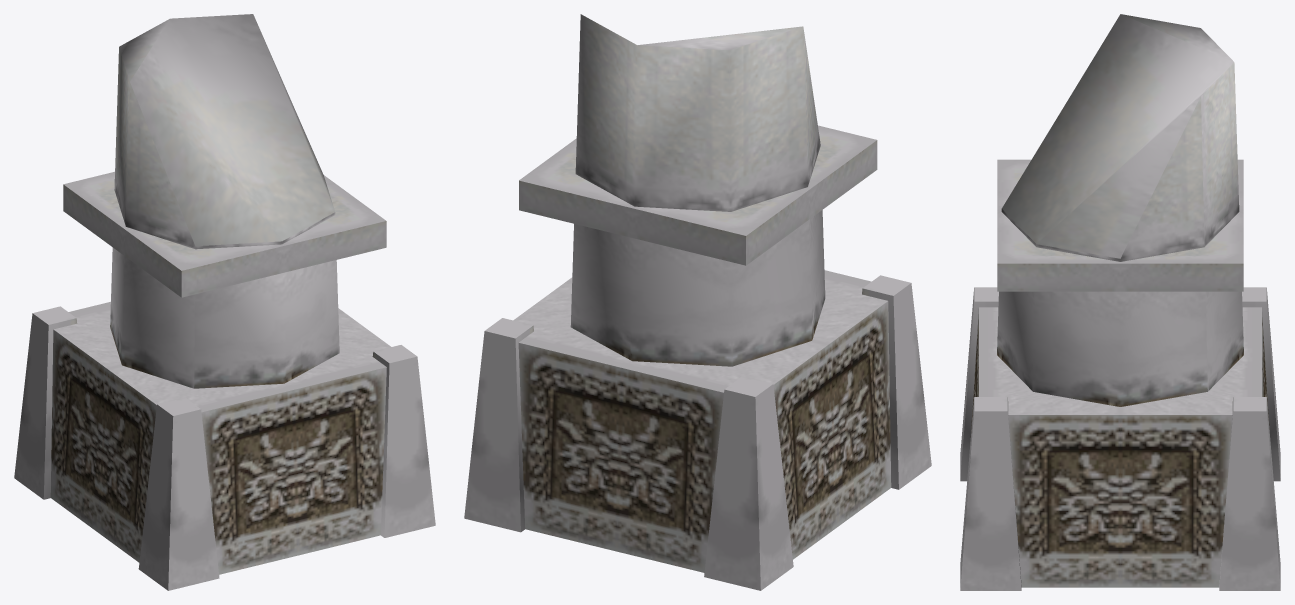
File: general_obj_bigtower06.glb
The picture shows the model from 3 angles, left to right: view 1: azimuth 30°, elevation 25°; view 2: azimuth 150°, elevation 25°; view 3: azimuth 270°, elevation 25°; orthographic projection. The views are drawn at different scales.
Parts seen in each view (by area): view 1: Sphere01; view 2: Sphere01; view 3: Sphere01.
Boxes of the visible parts, left/top/right/bottom form: Sphere01: left=14, top=14, right=435, bottom=590; Sphere01: left=464, top=14, right=931, bottom=590; Sphere01: left=960, top=14, right=1280, bottom=590.
Bounding box in the file's own units: 5.22 × 8.27 × 5.21.
Materials: 1 (1 with a texture image).
